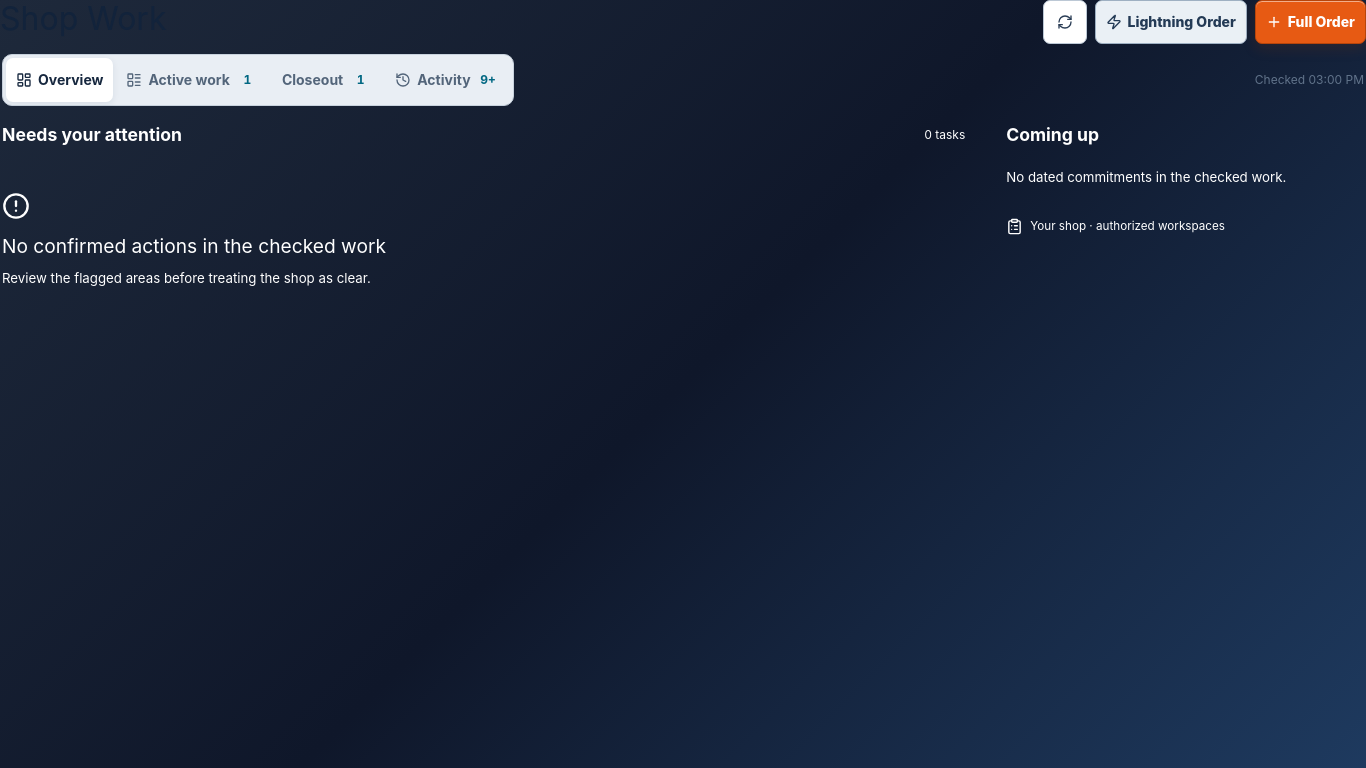
Test: DashboardHome DB-035 presentation boundary › keeps unpaid closeout separate and preserves existing payment status
This screenshot has width=1366, height=768.
Click the button "Closeout 1" at (327, 80), box top-left (272, 58), bottom-right (382, 102)
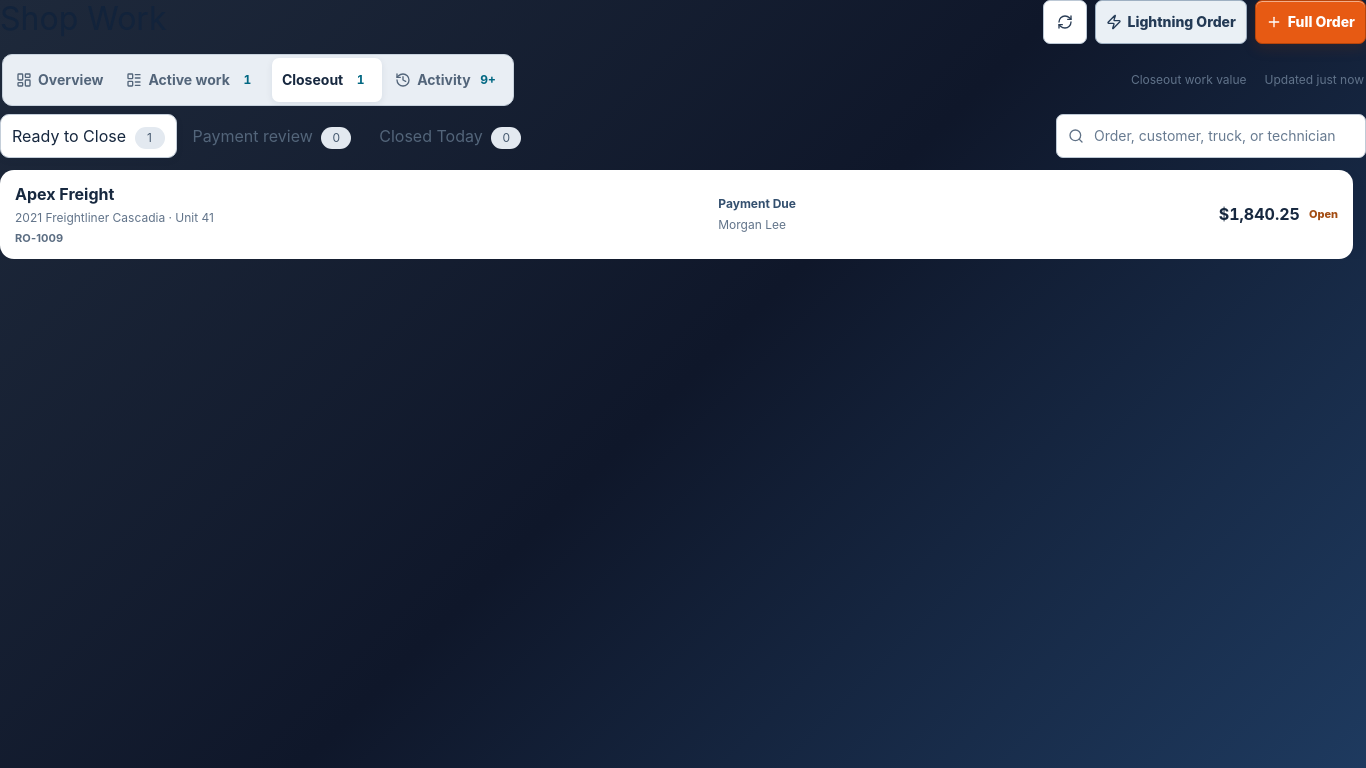
Expected: the text "Work in progress" is not shown
Expected: the text "Payment Due" is shown, top-left (718, 196), bottom-right (796, 211)
Expected: the button with aria-label "Open RO-1009 in Repair Orders" is shown, top-left (0, 170), bottom-right (1353, 258)
Click the button "Active work 1" at (193, 80), box top-left (116, 58), bottom-right (269, 102)
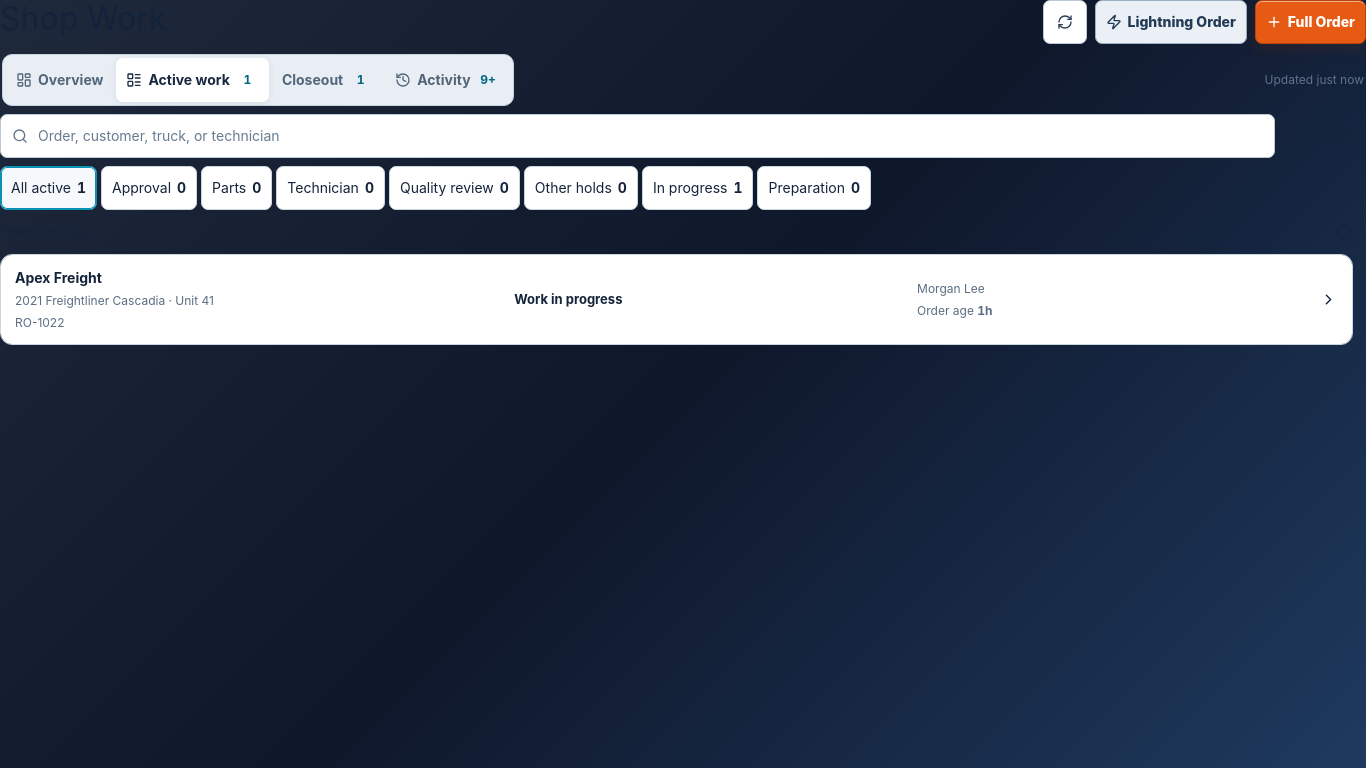
Expected: the text "Work in progress" is shown, top-left (514, 291), bottom-right (622, 307)
Expected: the button "Payment Due" is gone
